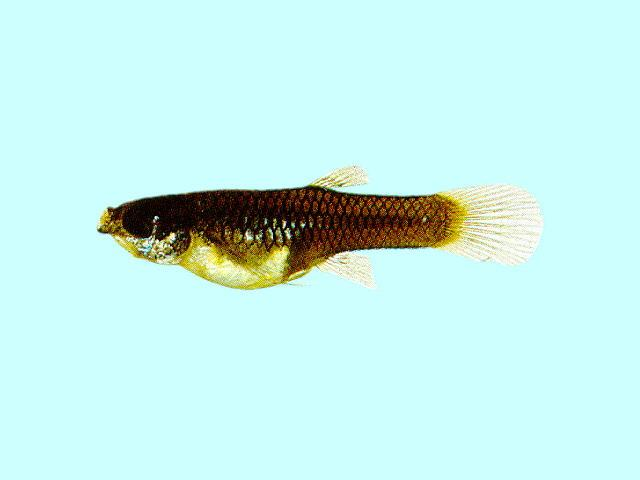Mulut: (62, 188, 138, 256)
Sirip Anal: (310, 240, 396, 302)
Sirip Ekor: (408, 167, 554, 277)
Sirip Punggung: (300, 153, 382, 209)
